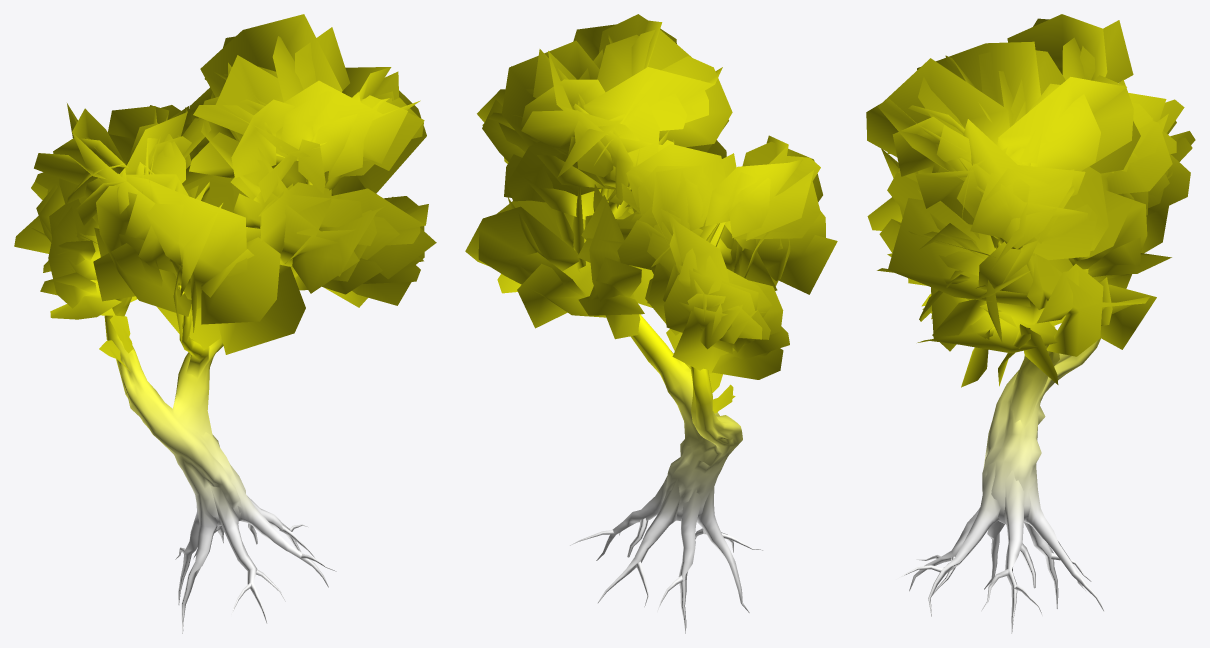
The model's file is Olivetree2.fbx.
3 renders of one model, left to right at view 1: azimuth 30°, elevation 25°; view 2: azimuth 150°, elevation 25°; view 3: azimuth 270°, elevation 25°, orthographic. The views are drawn at different scales.
Parts seen in each view (by area): view 1: Olivetree2_LOD0; view 2: Olivetree2_LOD0; view 3: Olivetree2_LOD0.
Boxes of the visible parts, x1=… form: Olivetree2_LOD0: x1=14, y1=14, x2=436, y2=633; Olivetree2_LOD0: x1=465, y1=14, x2=837, y2=633; Olivetree2_LOD0: x1=866, y1=14, x2=1195, y2=633.
Size of what is drawn, in the model's own units: 659 by 983 by 488.
